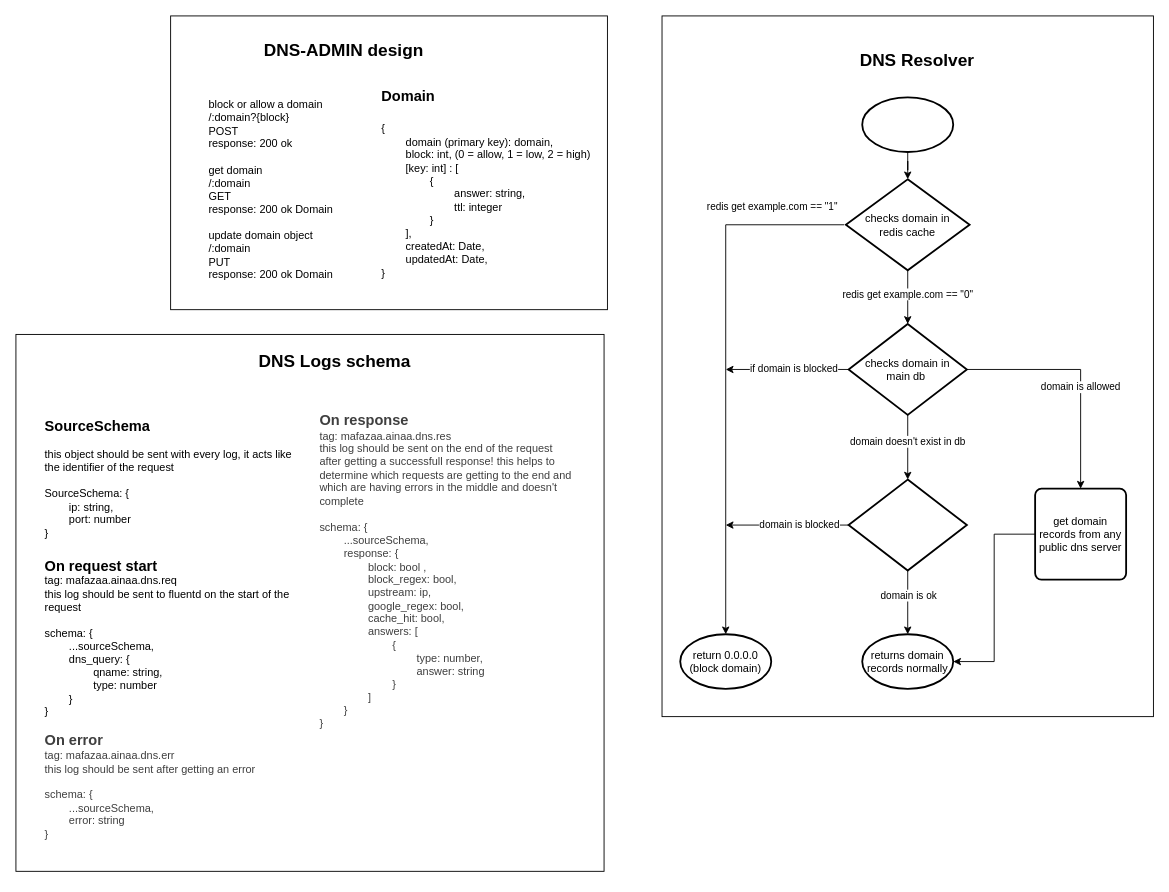
The diagram is 1169 pixels wide and 892 high, and some of its shapes have lost their labels. Here are the shapes that lost their labels. From the top down, the centre of each, then its label:
At point 907,124: "Takes a query for example.com".
At point 907,524: "checks domain from opendns".
